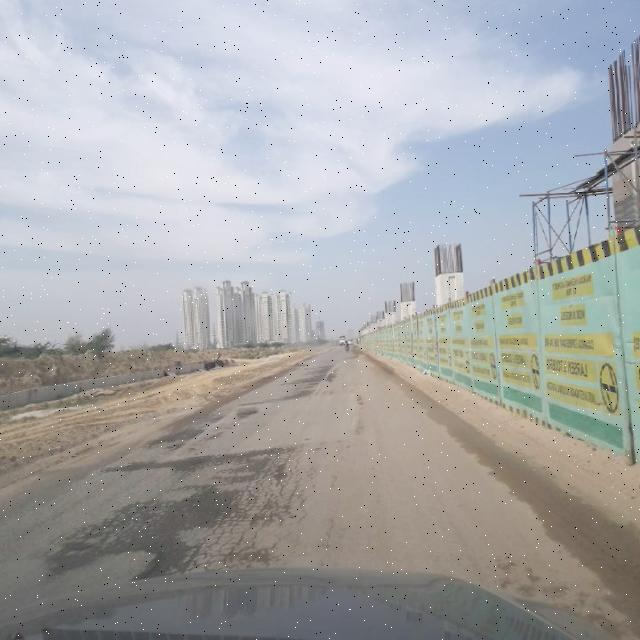D20: (28, 439, 320, 567)
